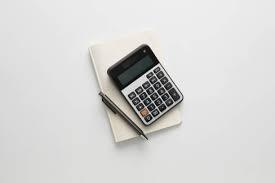Calculator: (104, 39, 188, 128)
